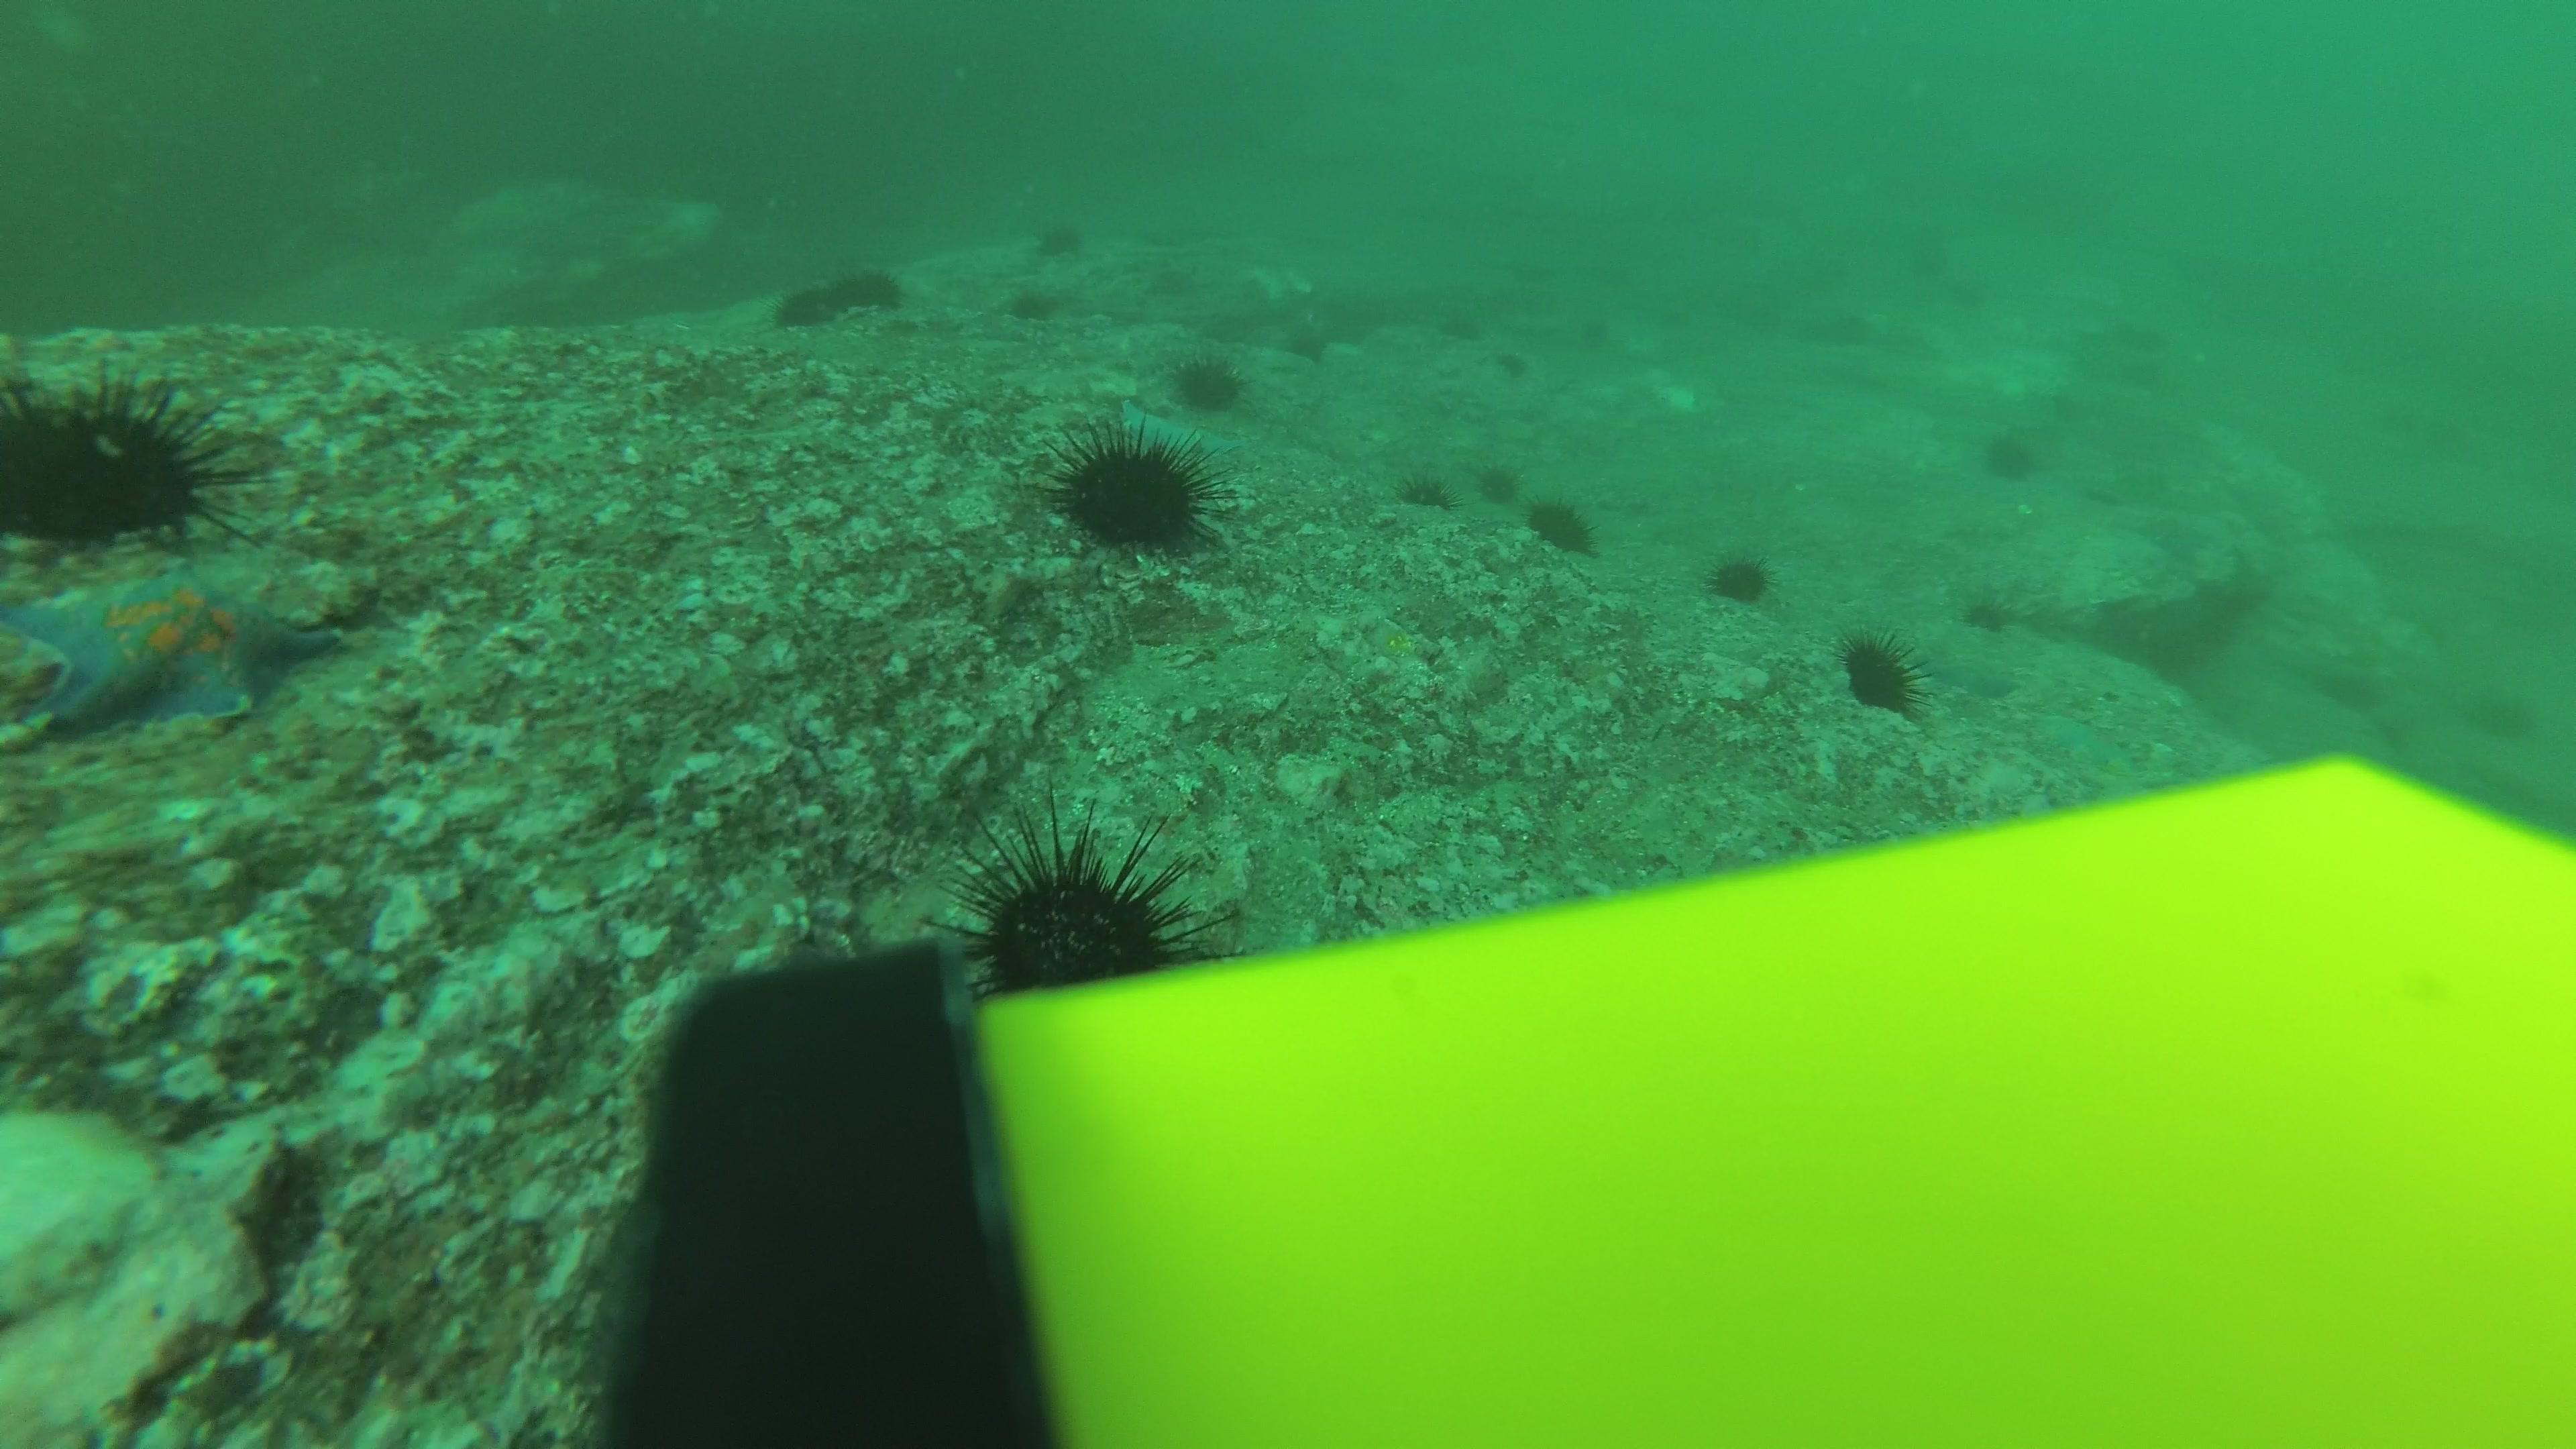urchin: (948, 801, 1219, 987), (2, 373, 237, 550), (1053, 421, 1219, 557), (770, 274, 906, 327), (1845, 625, 1923, 713), (1980, 426, 2051, 483), (1182, 352, 1240, 405), (1541, 497, 1598, 545), (1014, 281, 1077, 322), (1394, 462, 1445, 510), (1472, 458, 1523, 504), (1718, 552, 1767, 598), (1040, 219, 1079, 255)
